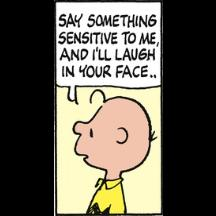charlie: (70, 89, 158, 216)
